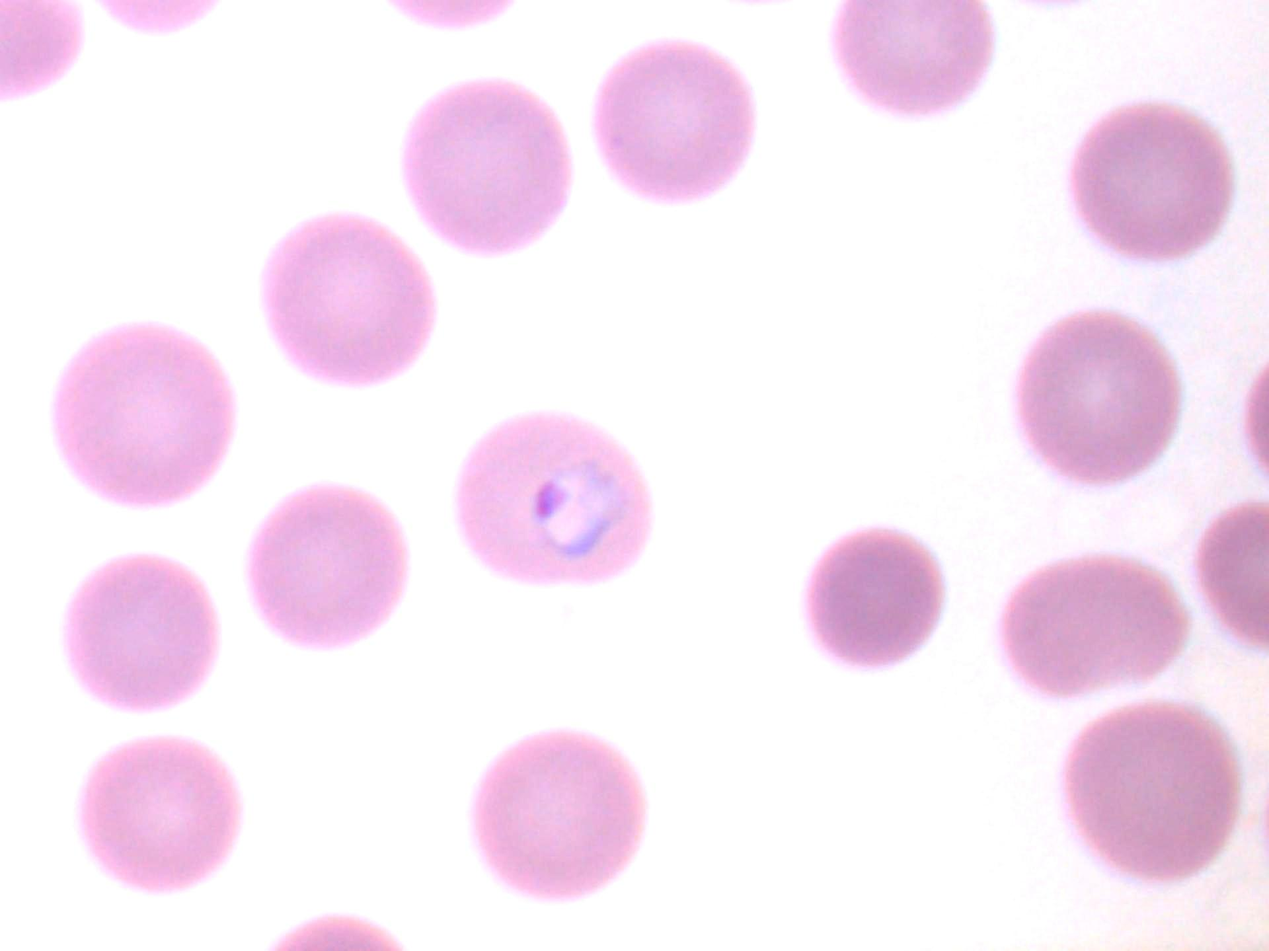Infected: (453, 410, 651, 590)
Uninfected: (48, 320, 236, 503), (401, 73, 577, 259), (260, 212, 439, 390), (1061, 703, 1239, 879), (471, 730, 646, 902), (1015, 309, 1184, 484), (590, 36, 758, 205), (1067, 98, 1234, 260), (247, 485, 410, 649), (1005, 556, 1186, 697), (79, 737, 240, 894), (65, 554, 221, 710), (800, 526, 950, 671), (836, 0, 996, 113)
